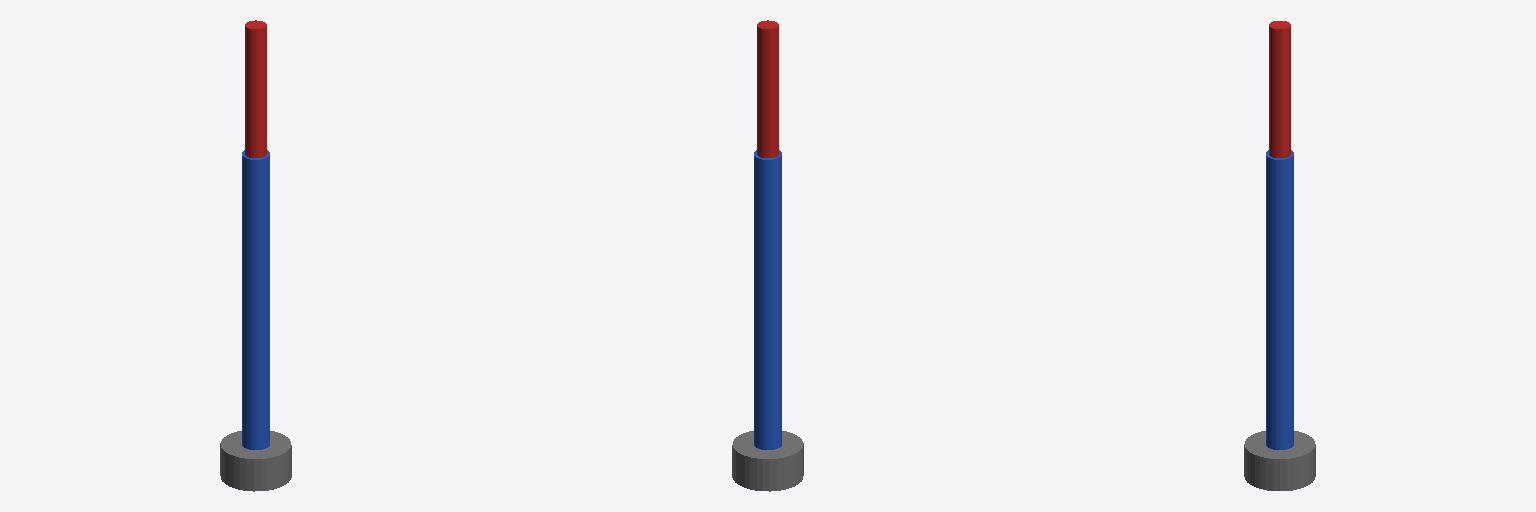
URDF robot description (simple_2r):
<?xml version='1.0' encoding='UTF-8'?>
<robot name="simple_2r">

  
  <link name="base_link">
    <visual>
      <origin xyz="0 0 0.025" rpy="0 0 0" />
      <geometry>
        <cylinder radius="0.05" length="0.05" />
      </geometry>
      <material name="gray">
        <color rgba="0.5 0.5 0.5 1.0" />
      </material>
    </visual>
    <collision>
      <origin xyz="0 0 0.025" rpy="0 0 0" />
      <geometry>
        <cylinder radius="0.05" length="0.05" />
      </geometry>
    </collision>
    <inertial>
      <origin xyz="0 0 0.025" rpy="0 0 0" />
      <mass value="1.0" />
      <inertia ixx="0.001" ixy="0" ixz="0" iyy="0.001" iyz="0" izz="0.001" />
    </inertial>
  </link>

  
  <joint name="joint1" type="revolute">
    <parent link="base_link" />
    <child link="link1" />
    <origin xyz="0 0 0.05" rpy="0 0 0" />
    <axis xyz="0 1 0" />
    <limit lower="-1.57" upper="1.57" effort="10" velocity="3.14" />
  </joint>

  
  
  <link name="link1">
    <visual>
      <origin xyz="0.000000 0.000000 0.225000" rpy="0 0 0" />
      <geometry>
        <cylinder radius="0.02" length="0.450000" />
      </geometry>
      <material name="blue">
        <color rgba="0.2 0.4 0.8 1.0" />
      </material>
    </visual>
    <collision>
      <origin xyz="0.000000 0.000000 0.225000" rpy="0 0 0" />
      <geometry>
        <cylinder radius="0.02" length="0.450000" />
      </geometry>
    </collision>
    <inertial>
      <origin xyz="0.000000 0.000000 0.225000" rpy="0 0 0" />
      <mass value="1.526814" />
      <inertia ixx="0.02591767" ixy="0" ixz="0" iyy="0.02591767" iyz="0" izz="0.00030536" />
    </inertial>
  </link>

  
  
  <joint name="joint2" type="revolute">
    <parent link="link1" />
    <child link="link2" />
    <origin xyz="0.000000 0.000000 0.450000" rpy="0 0 0" />
    <axis xyz="0 1 0" />
    <limit lower="-1.57" upper="1.57" effort="10" velocity="3.14" />
  </joint>

  
  
  <link name="link2">
    <visual>
      <origin xyz="0 0 0.1" rpy="0 0 0" />
      <geometry>
        <cylinder radius="0.015" length="0.2" />
      </geometry>
      <material name="red">
        <color rgba="0.8 0.2 0.2 1.0" />
      </material>
    </visual>
    <collision>
      <origin xyz="0 0 0.1" rpy="0 0 0" />
      <geometry>
        <cylinder radius="0.015" length="0.2" />
      </geometry>
    </collision>
    <inertial>
      <origin xyz="0 0 0.1" rpy="0 0 0" />
      <mass value="0.382" />
      <inertia ixx="0.00130" ixy="0" ixz="0" iyy="0.00130" iyz="0" izz="0.0000430" />
    </inertial>
  </link>

</robot>

--- Facts derived from the render (not from the file) ---
The picture shows the robot from 3 angles, left to right: view 1: azimuth 30°, elevation 25°; view 2: azimuth 150°, elevation 25°; view 3: azimuth 270°, elevation 25°; orthographic projection.
Model simple_2r with 3 links and 2 joints (2 revolute), rooted at base_link, posed all joints at 0.
Visible links, largest first — view 1: link1, base_link, link2; view 2: link1, base_link, link2; view 3: link1, base_link, link2.
Boxes of the visible links, left/top/right/bottom form: link1: left=242, top=150, right=269, bottom=449; base_link: left=220, top=431, right=291, bottom=491; link2: left=245, top=20, right=266, bottom=157; link1: left=754, top=150, right=781, bottom=449; base_link: left=732, top=431, right=803, bottom=491; link2: left=757, top=20, right=778, bottom=157; link1: left=1266, top=150, right=1293, bottom=449; base_link: left=1244, top=431, right=1315, bottom=490; link2: left=1269, top=21, right=1290, bottom=157.
Bounding box of the posed robot: 0.1 × 0.1 × 0.7 m (x, y, z).
Geometry: primitives only (box / cylinder / sphere), no mesh files.
